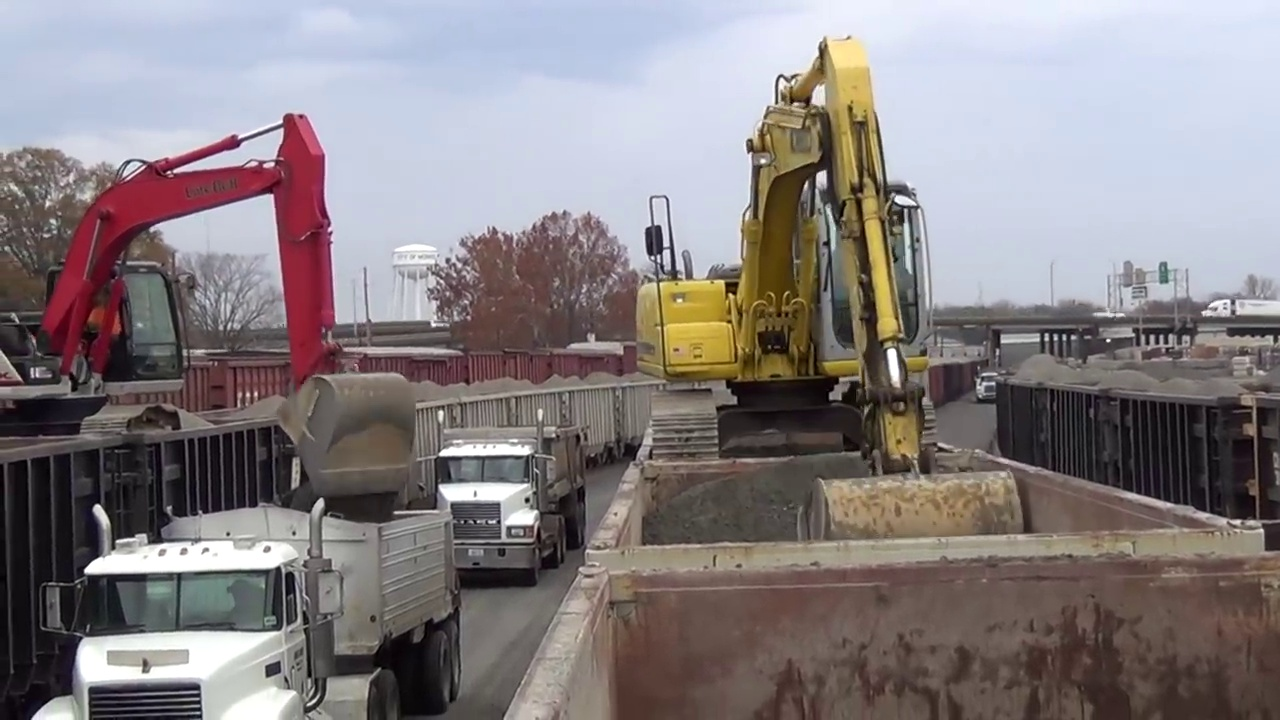excavator: (634, 35, 1040, 550), (1, 111, 418, 492)
truck: (37, 495, 461, 720), (438, 422, 589, 586)
